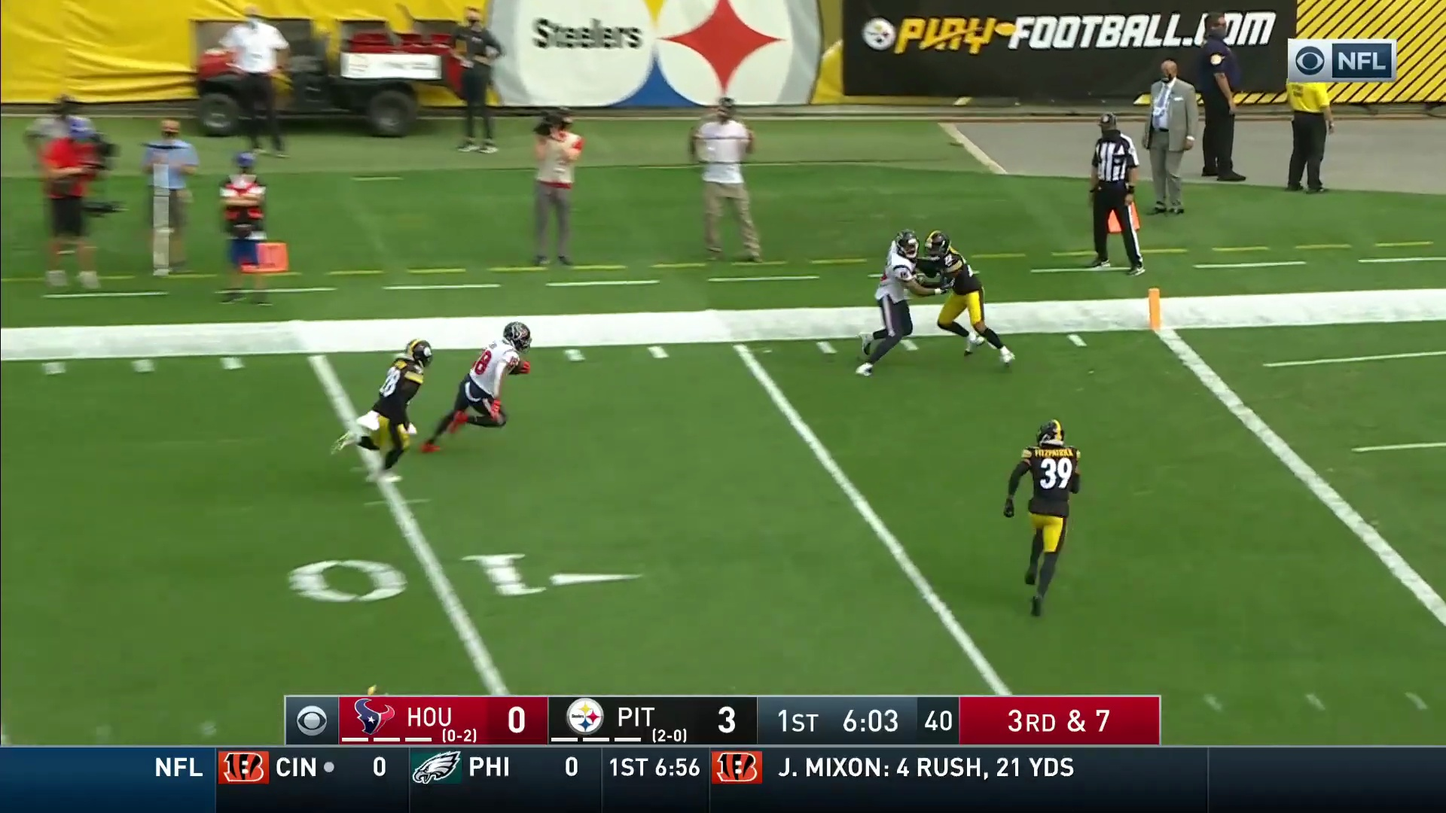Player: (857, 231, 923, 376)
